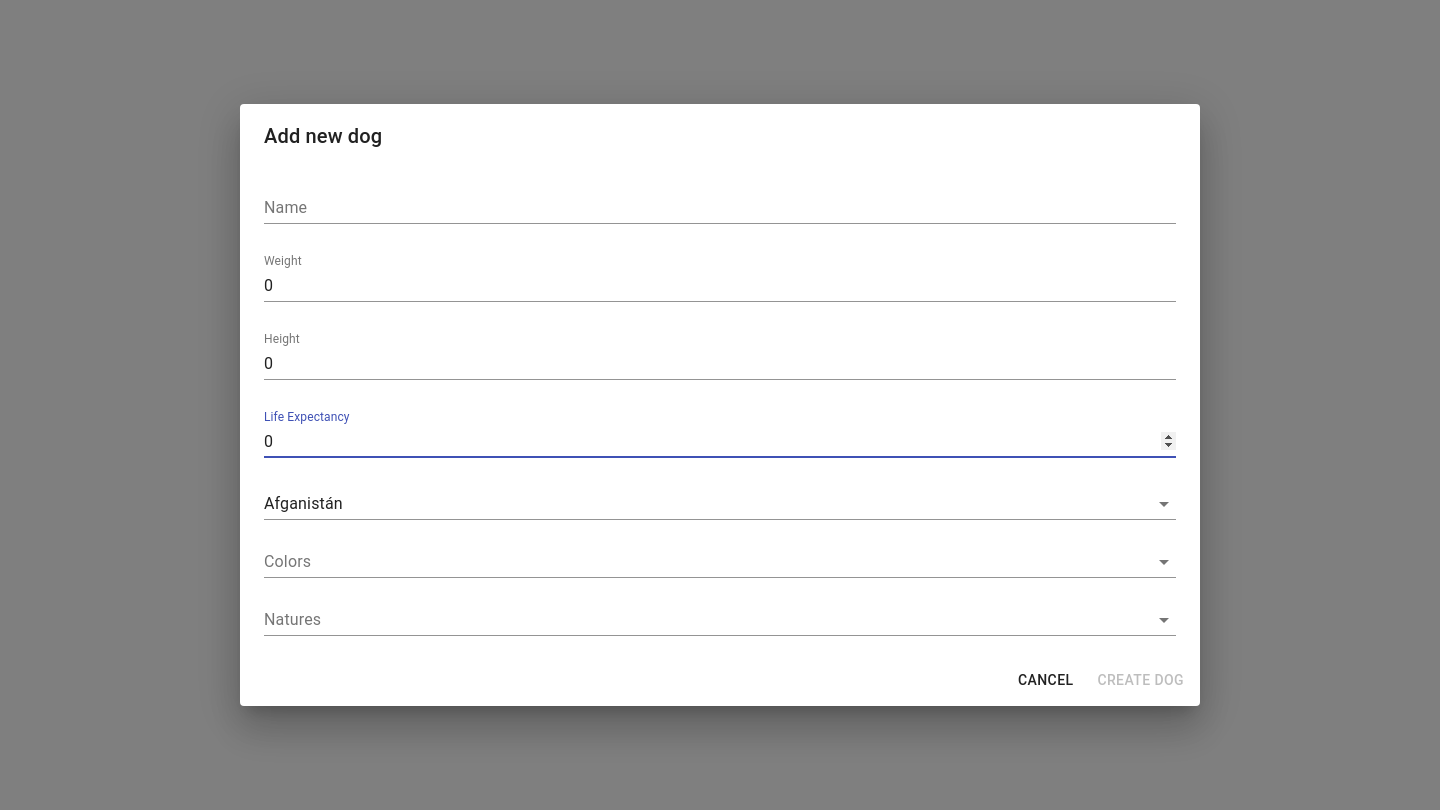
Test: Error cases, field validations Add Dialog Form › Should show error message when colors length is less than 1
Type "Red" into the field labelled "Colors" at (692, 561), box [264, 546, 1120, 577]
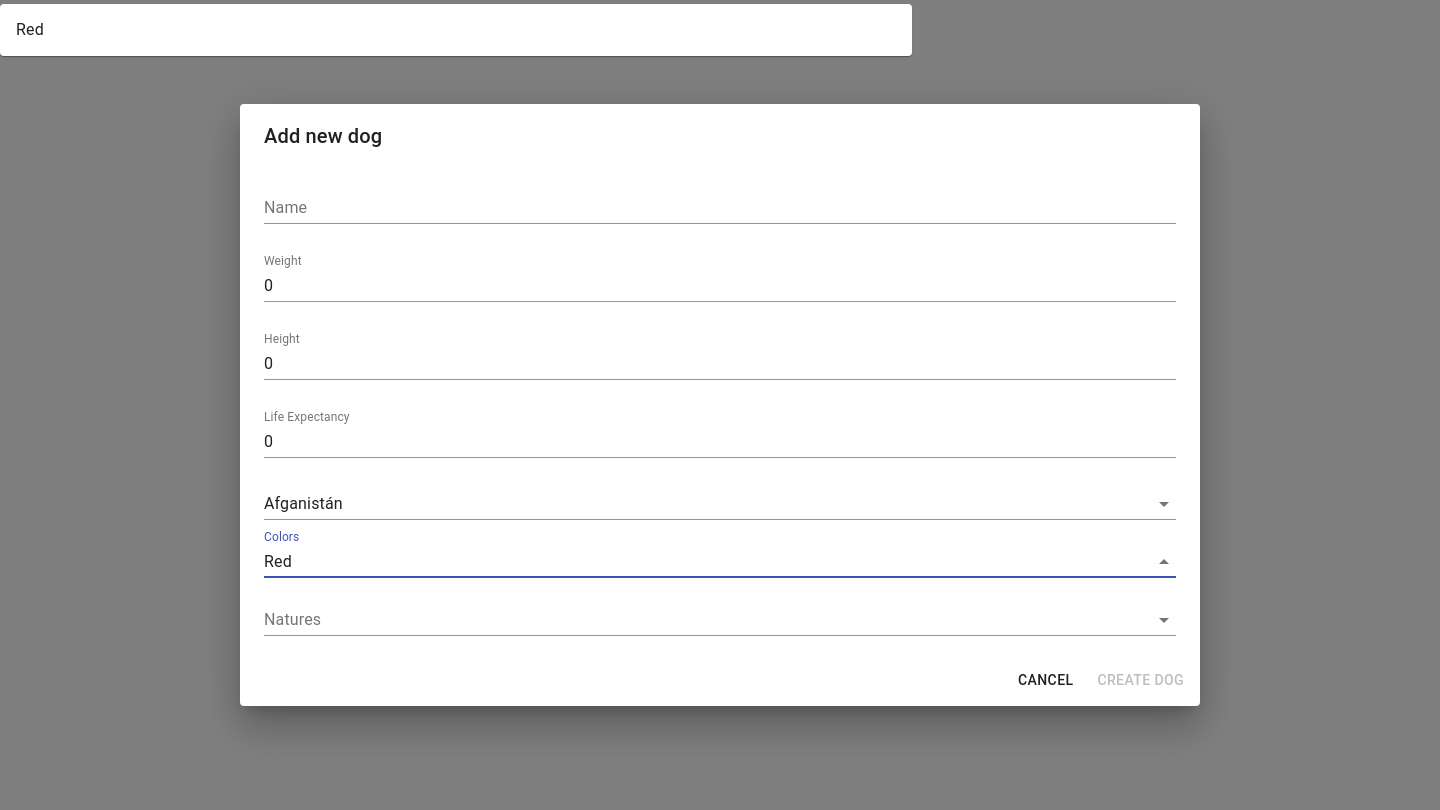
Click the option "Red" at (30, 30), box [16, 20, 44, 39]
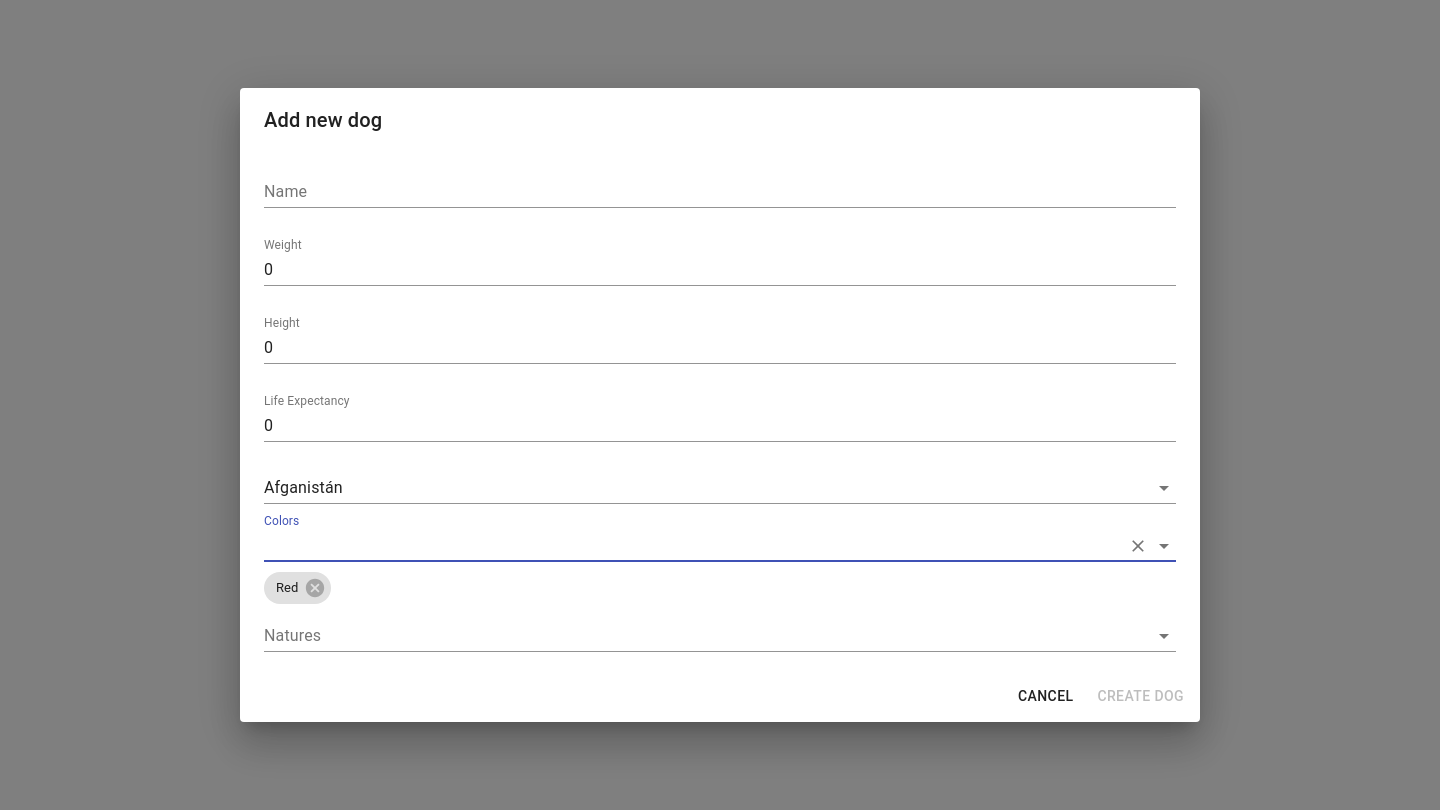
Check: the button with test id "e2e-color-chip-Red" is shown, box [264, 572, 331, 604]
Check: the icon with test id "e2e-delete-color-Red" is shown
Click the icon with test id "e2e-delete-color-Red" at (315, 588), box [304, 577, 326, 599]
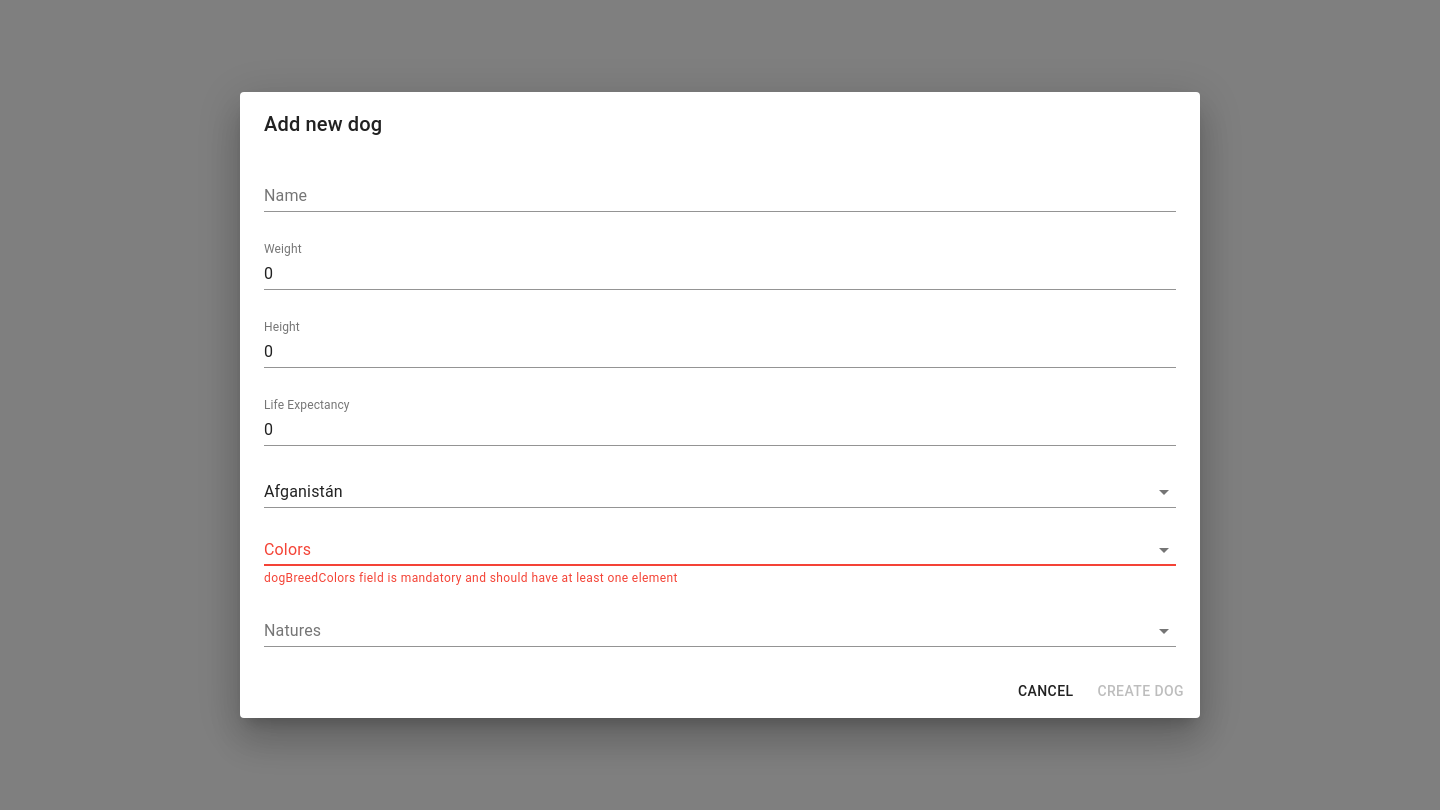
Check: the button with test id "e2e-color-chip-Red" is gone
Check: the text "dogBreedColors field is mandatory and should have at least one element" is shown, box [264, 571, 678, 585]
Type "Red" into the field labelled "Colors" at (692, 550), box [264, 534, 1120, 565]
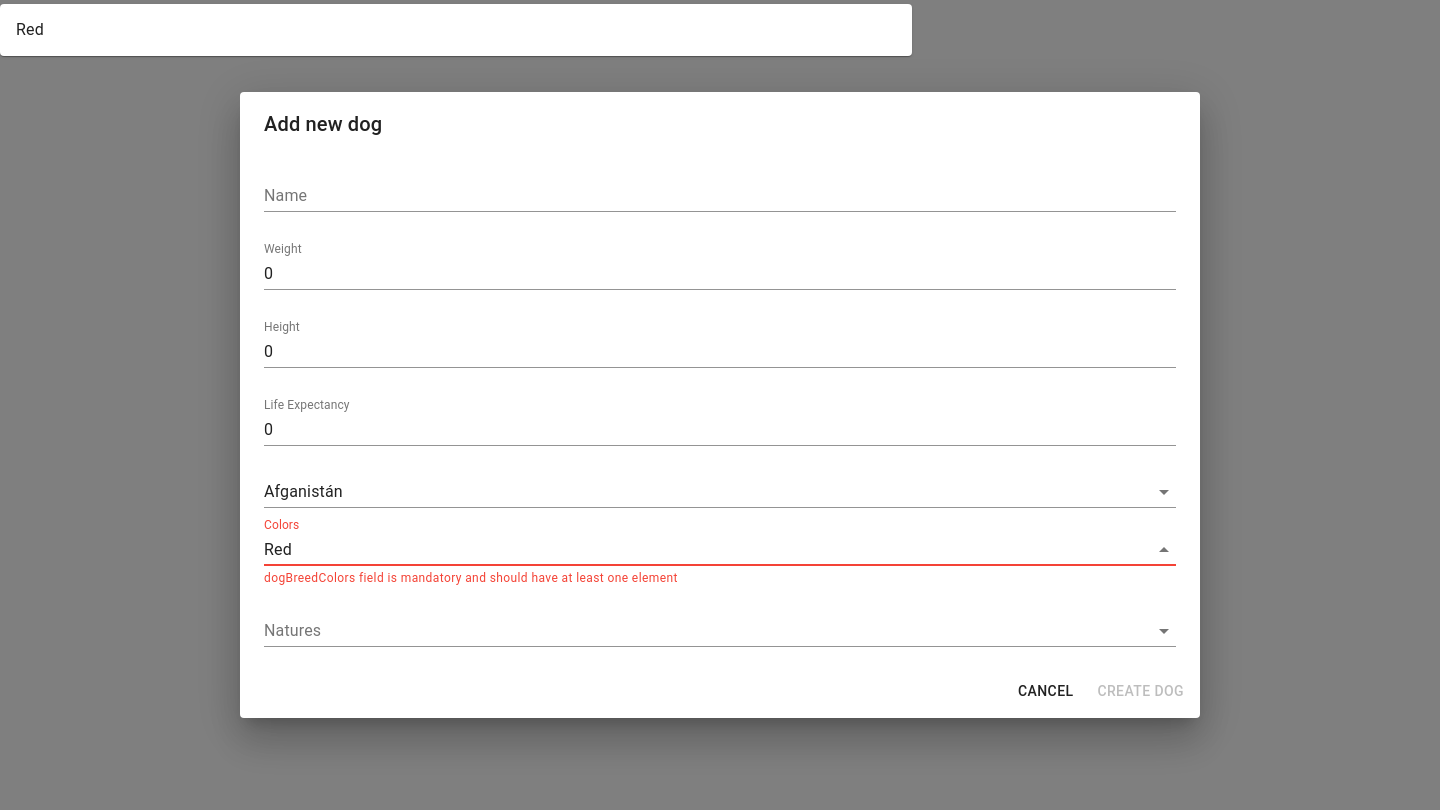
Click the option "Red" at (30, 30), box [16, 20, 44, 39]
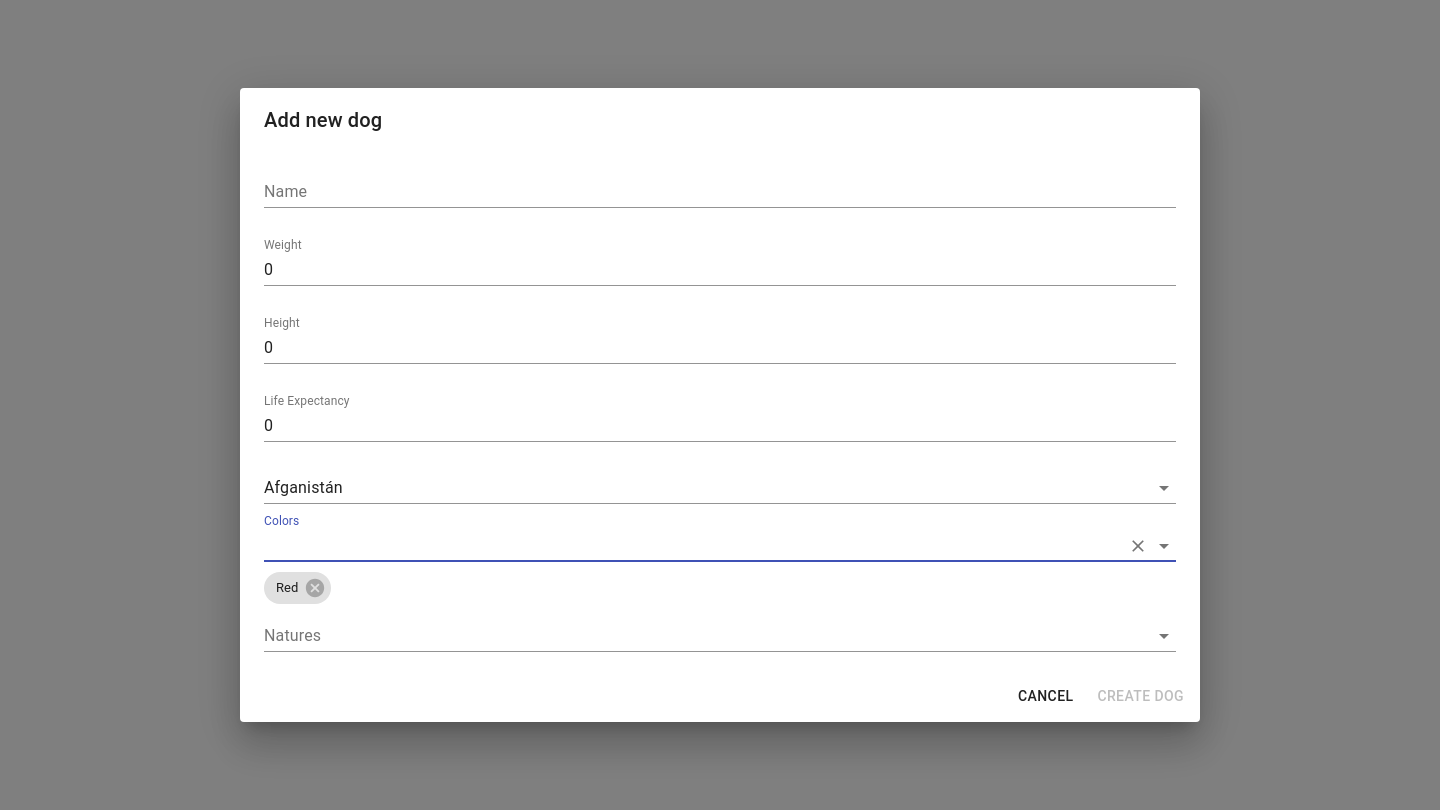
Check: the text "dogBreedColors field is mandatory and should have at least one element" is gone
